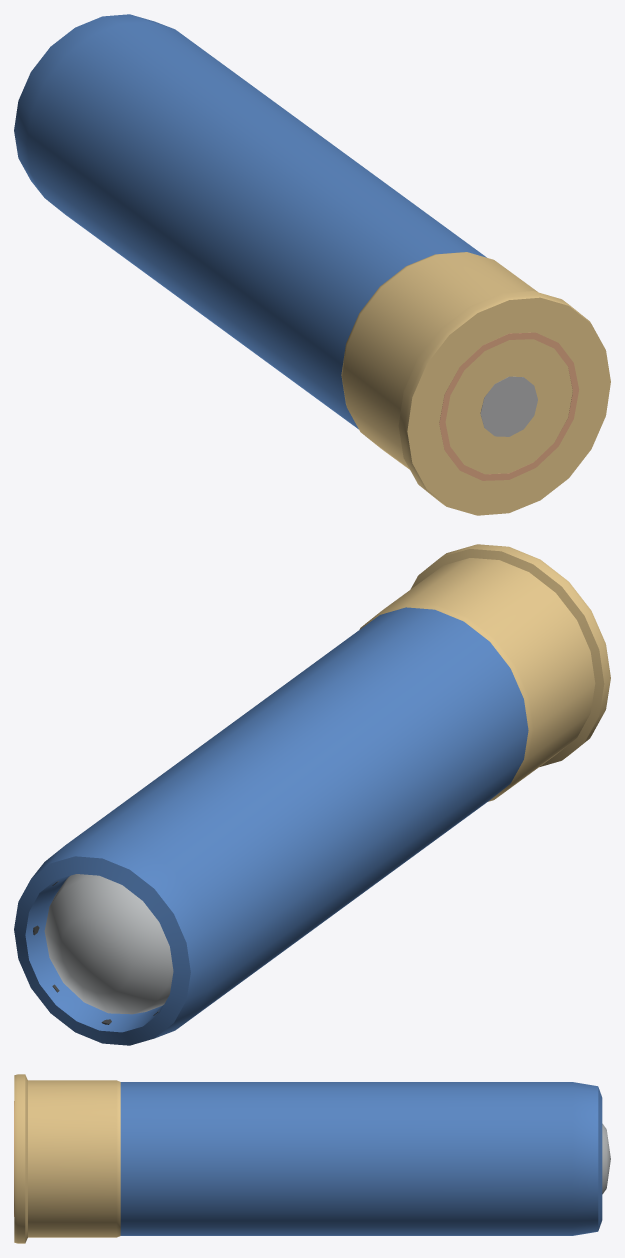
File: slug_12ga.glb
3 renders of one model, top to bottom at view 1: azimuth 30°, elevation 25°; view 2: azimuth 150°, elevation 25°; view 3: azimuth 270°, elevation 25°, orthographic. The views are drawn at different scales.
Visible parts, largest first — view 1: body; view 2: body; view 3: body.
Part boxes in pixels (box(x1,y1,x2,y2)): body: box(14, 14, 610, 515); body: box(14, 544, 610, 1045); body: box(14, 1074, 610, 1243).
Bounding box in the file's own units: 0.02 × 0.02 × 0.07.
